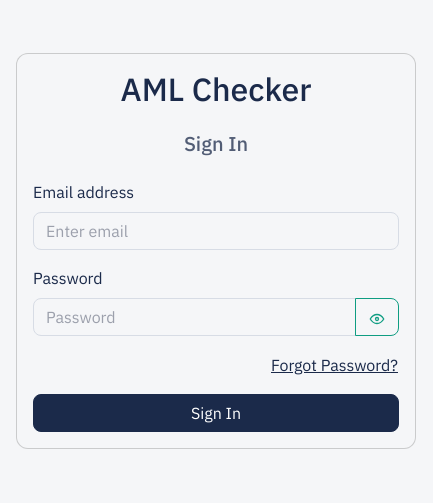
Test: LoginPage › shows error alert on failed login
The image size is (433, 503).
Type "bad@test.com" into the field labelled "Email address" at coordinates (216, 231), box [33,212,399,250]
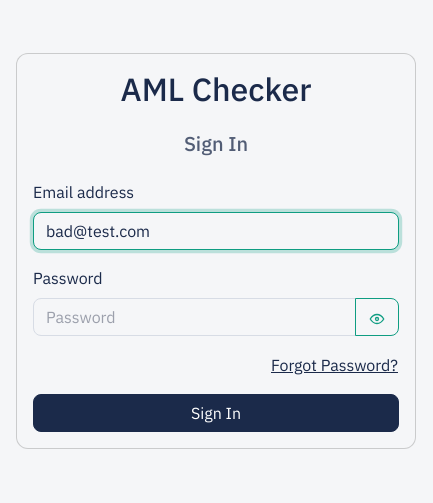
Type "wrongpass" into the password field labelled "Password" at coordinates (194, 317), box [33,298,356,336]
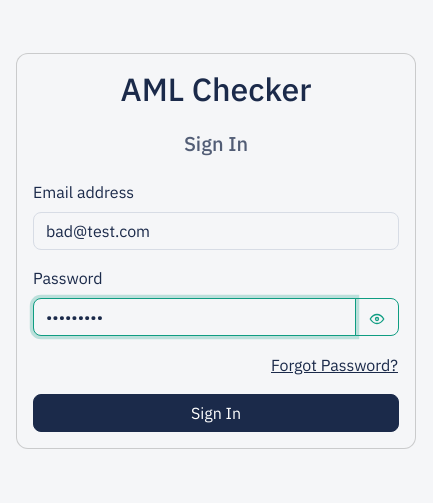
Click the button "Sign In" at coordinates (216, 413), box [33,394,399,432]
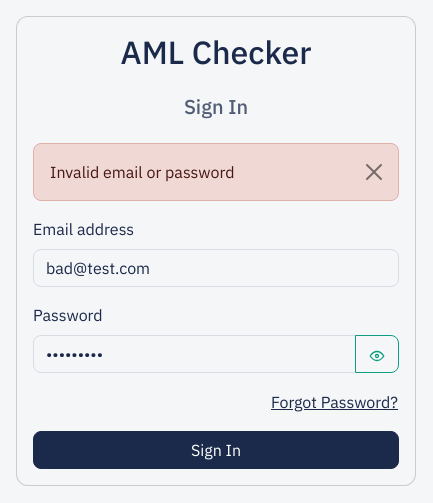
Now the message reads "Invalid email or password", box [50,162,234,182]
